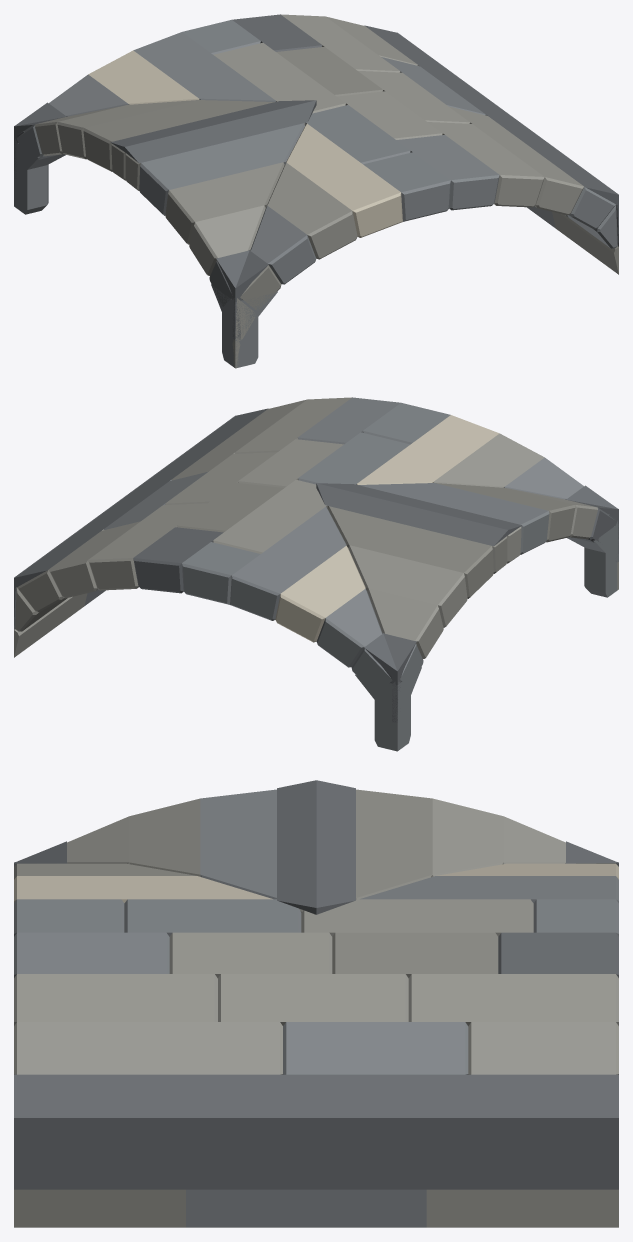
The model's file is SM_LPD_Struct_CeilVaultBayTee_01.fbx.
3 views of the same model, one above another, from view 1: azimuth 30°, elevation 25°; view 2: azimuth 150°, elevation 25°; view 3: azimuth 270°, elevation 25° (orthographic). The views are drawn at different scales.
Parts seen in each view (by area): view 1: SM_LPD_Struct_CeilVaultBayTee_01; view 2: SM_LPD_Struct_CeilVaultBayTee_01; view 3: SM_LPD_Struct_CeilVaultBayTee_01.
Boxes of the visible parts, x1,y1,x2,y2 form: SM_LPD_Struct_CeilVaultBayTee_01: (14, 14, 618, 368); SM_LPD_Struct_CeilVaultBayTee_01: (14, 397, 618, 751); SM_LPD_Struct_CeilVaultBayTee_01: (14, 780, 618, 1227).
Bounding box in the file's own units: 4 × 1.4 × 4.
